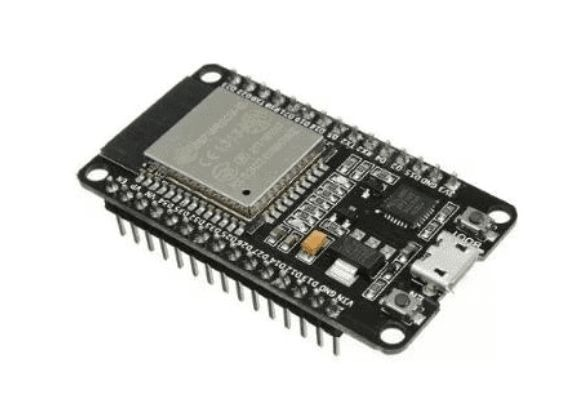ESP32-WROOM: (49, 51, 541, 374)
